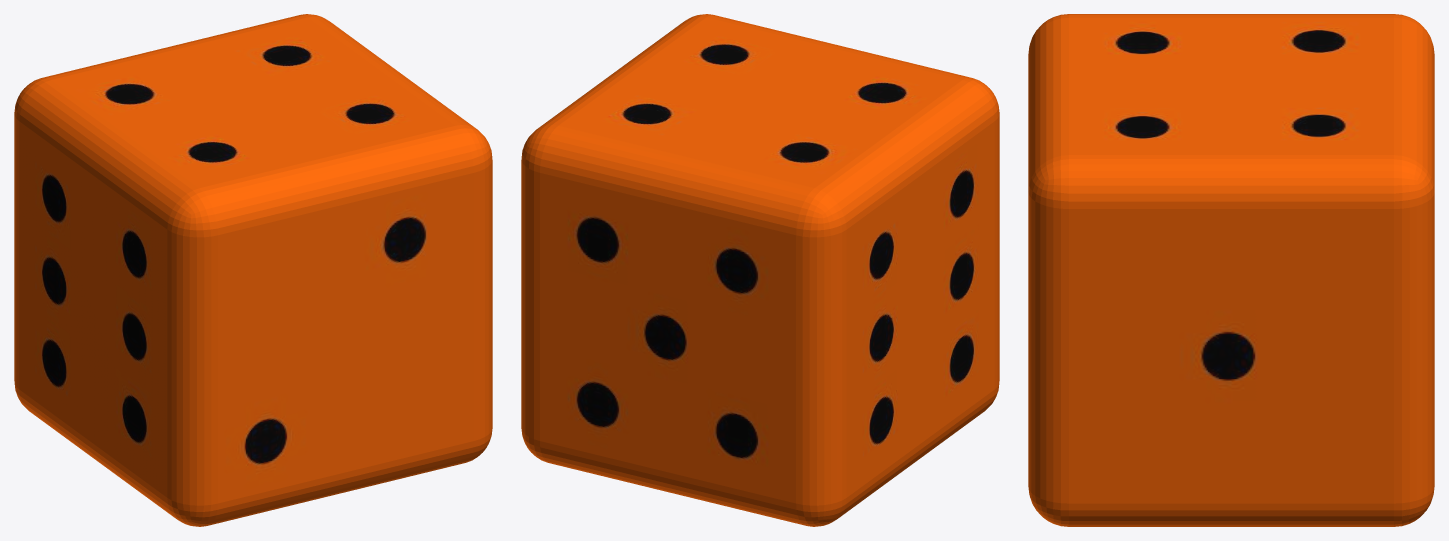
File: dice.glb
3 renders of one model, left to right at view 1: azimuth 30°, elevation 25°; view 2: azimuth 150°, elevation 25°; view 3: azimuth 270°, elevation 25°, orthographic. The views are drawn at different scales.
Parts seen in each view (by area): view 1: Cube; view 2: Cube; view 3: Cube.
Boxes of the visible parts, x1=… form: Cube: x1=14, y1=14, x2=492, y2=526; Cube: x1=521, y1=14, x2=999, y2=526; Cube: x1=1028, y1=14, x2=1434, y2=526.
Size of the model in its own units: 3.2 by 3.2 by 3.2.
Materials: 1 (1 with a texture image).
